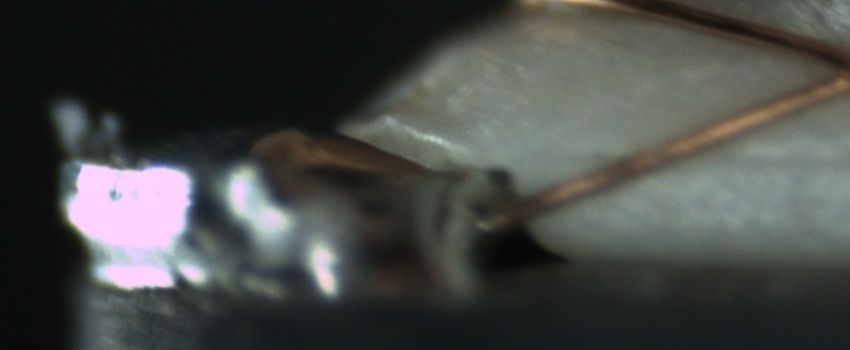DL: (633, 123, 848, 190)
